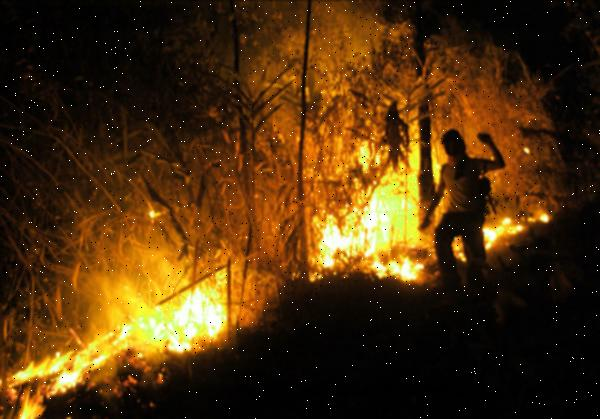fire: (0, 111, 432, 419), (479, 166, 600, 249)
